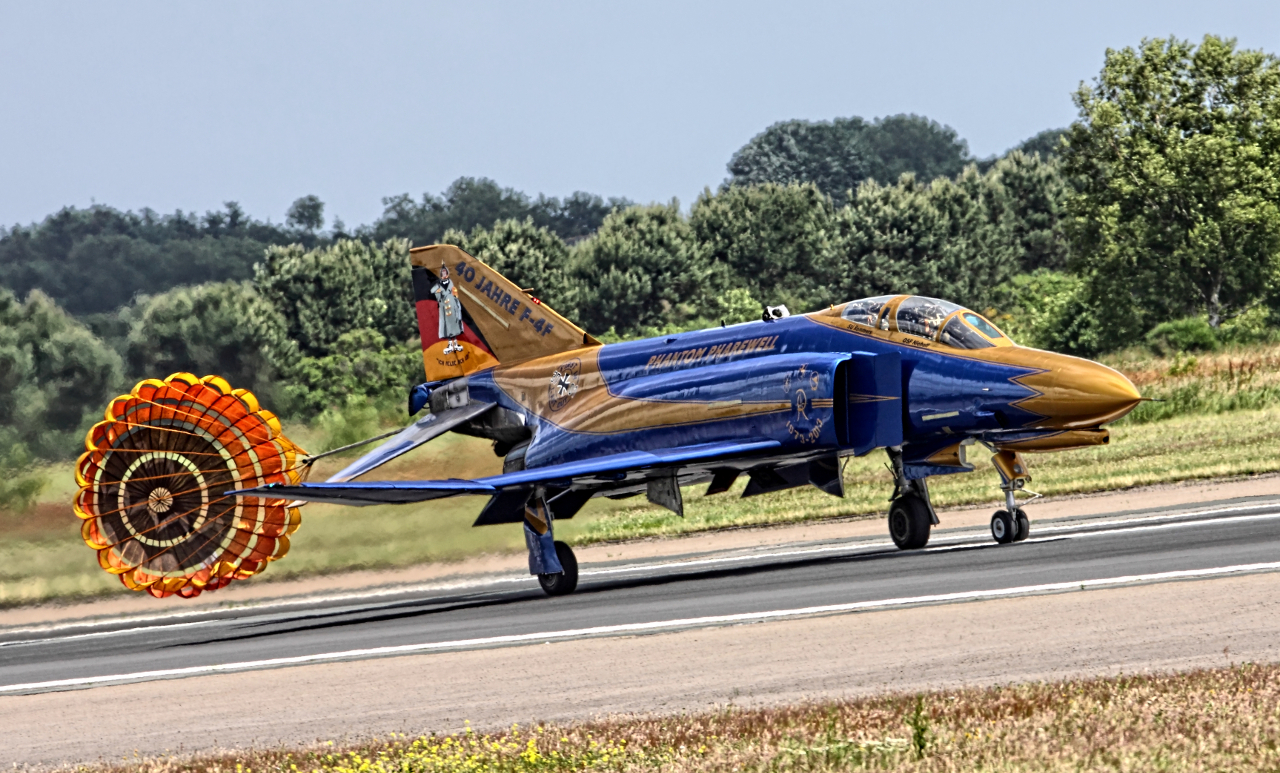F4: (222, 242, 1166, 595)
